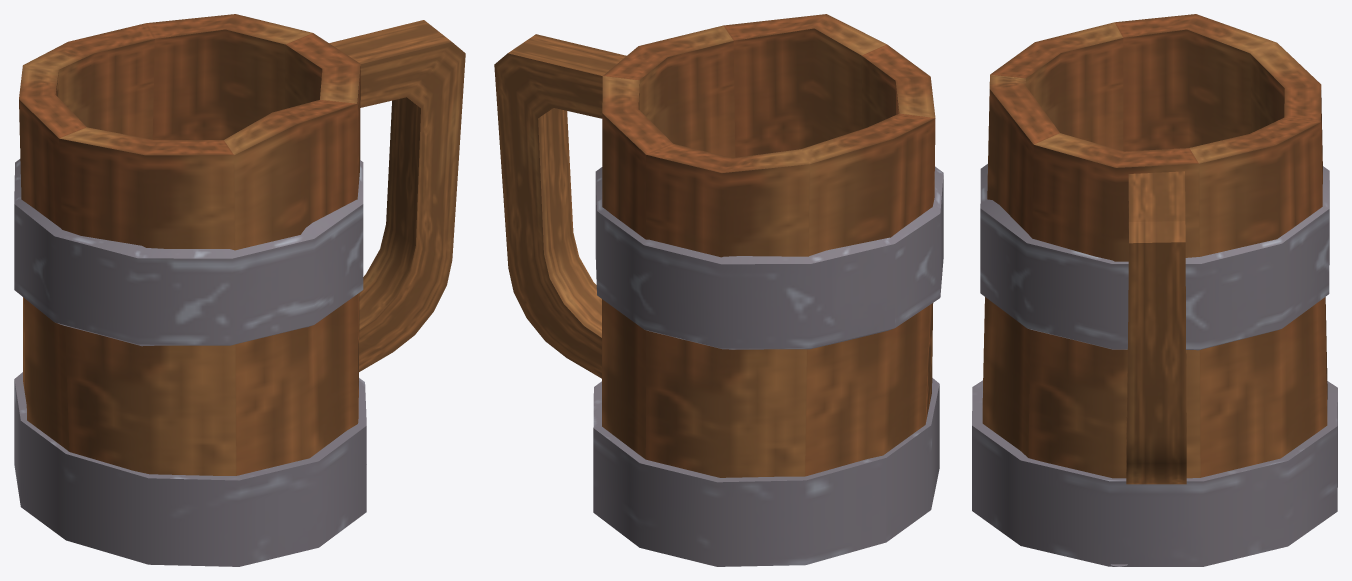
The picture shows the model from 3 angles, left to right: view 1: azimuth 30°, elevation 25°; view 2: azimuth 150°, elevation 25°; view 3: azimuth 270°, elevation 25°; orthographic projection. The views are drawn at different scales.
Visible parts, largest first — view 1: 2bed24ed427da899c64f0c99a7488970d5ac0a3dd007e3dcf039fbfe4113; view 2: 2bed24ed427da899c64f0c99a7488970d5ac0a3dd007e3dcf039fbfe4113; view 3: 2bed24ed427da899c64f0c99a7488970d5ac0a3dd007e3dcf039fbfe4113.
Boxes of the visible parts, box(x1,y1,x2,y2) form: 2bed24ed427da899c64f0c99a7488970d5ac0a3dd007e3dcf039fbfe4113: box(14, 14, 465, 566); 2bed24ed427da899c64f0c99a7488970d5ac0a3dd007e3dcf039fbfe4113: box(494, 14, 943, 566); 2bed24ed427da899c64f0c99a7488970d5ac0a3dd007e3dcf039fbfe4113: box(972, 14, 1337, 566).
Bounding box in the file's own units: 0.1921 × 0.1839 × 0.1468.
Materials: 2 (2 with a texture image).
